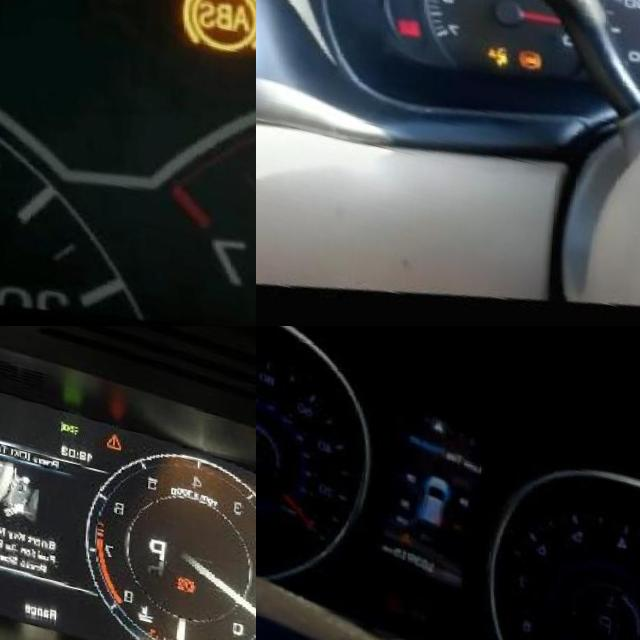High Engine Coolant Temperature: (144, 582, 161, 601)
